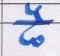ai_matra: (25, 3, 45, 21)
